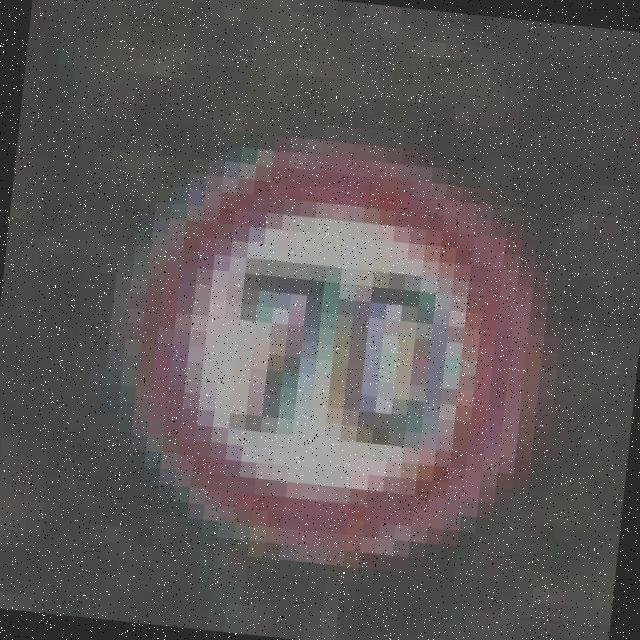Ograniczenie predkosci do 70: (107, 131, 553, 581)
